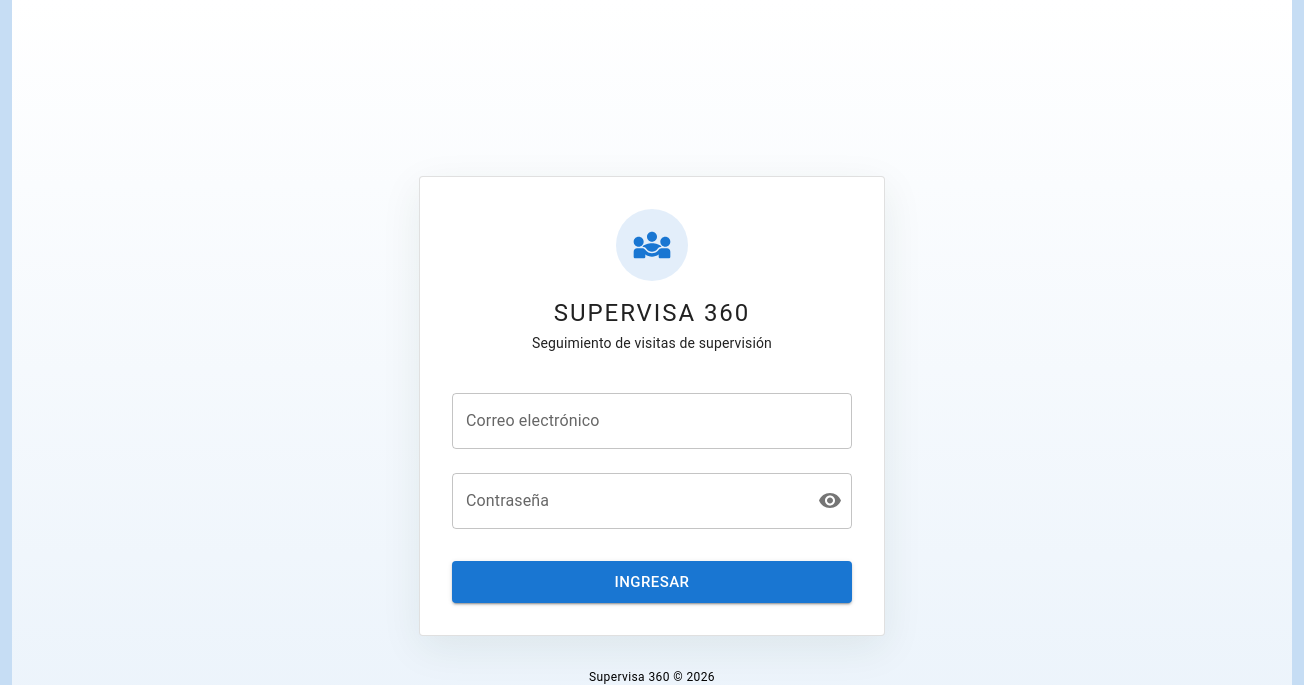
Test: LoginPage (HU-06) › muestra errores de validación al enviar el formulario vacío
This screenshot has width=1304, height=685.
Click the button "Ingresar": click(652, 582) left=452, top=561, right=852, bottom=603
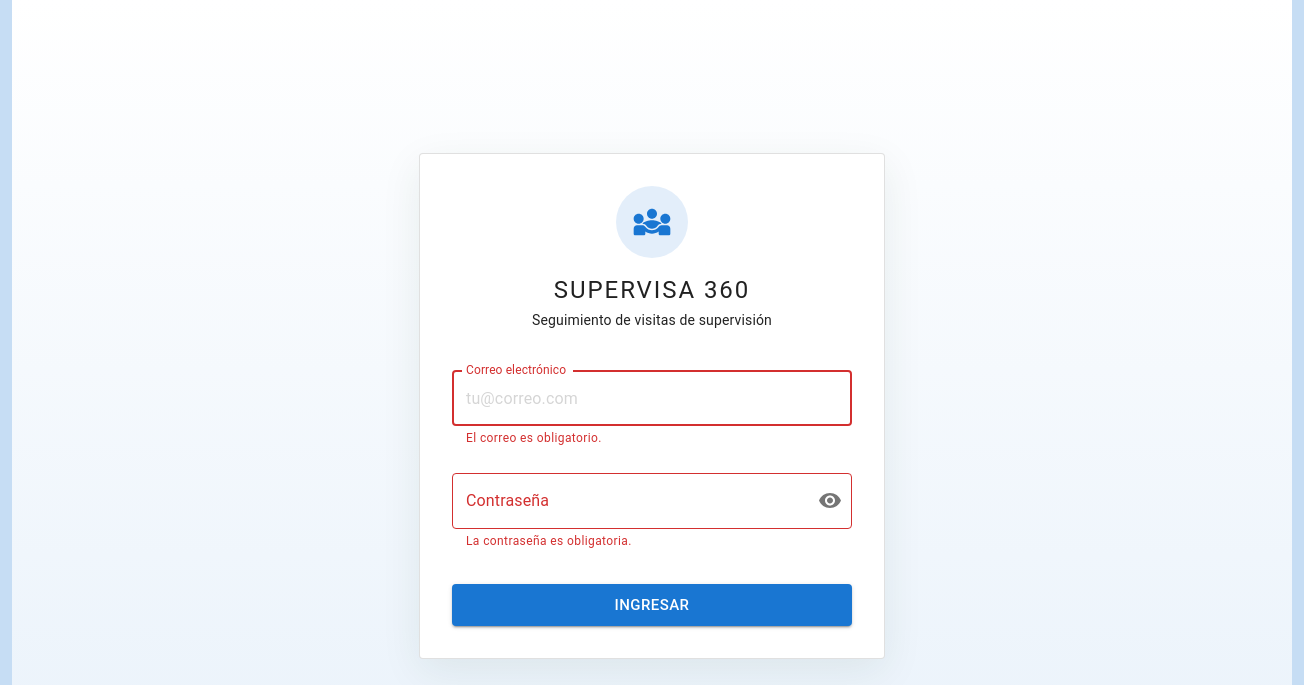
Result: the text "El correo es obligatorio." is shown at left=466, top=431, right=602, bottom=445
Result: the text "La contraseña es obligatoria." is shown at left=466, top=534, right=632, bottom=548
